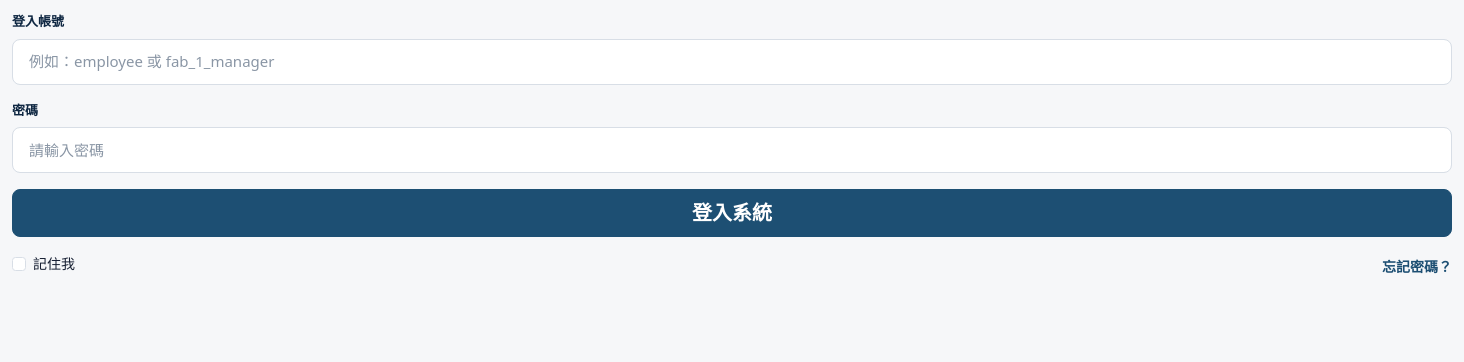
Test case: LoginForm › shows an error alert when login fails
The width and height of the screenshot is (1464, 362).
Type "manager" into the field labelled "登入帳號" at (732, 62), box [12,38,1452,84]
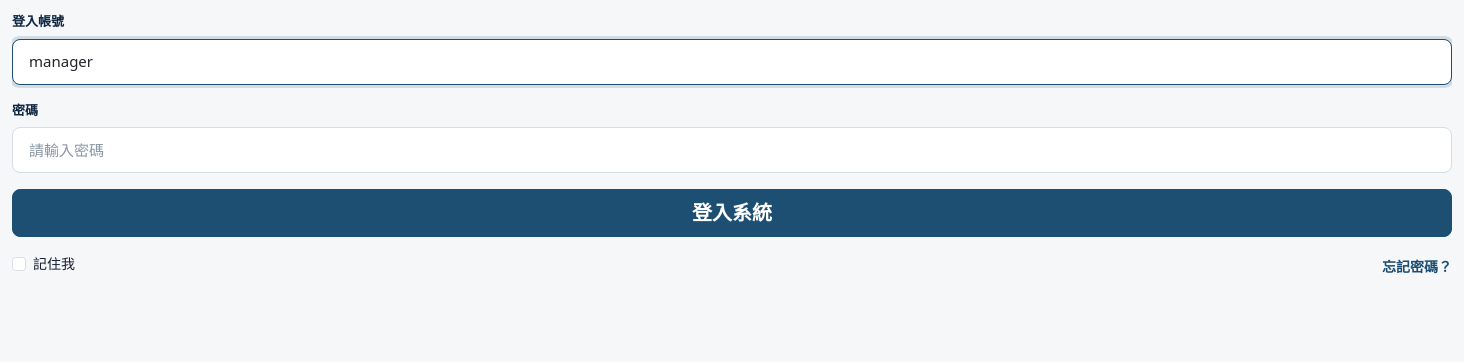
Type "wrong" into the password field labelled "密碼" at (732, 150), box [12,127,1452,173]
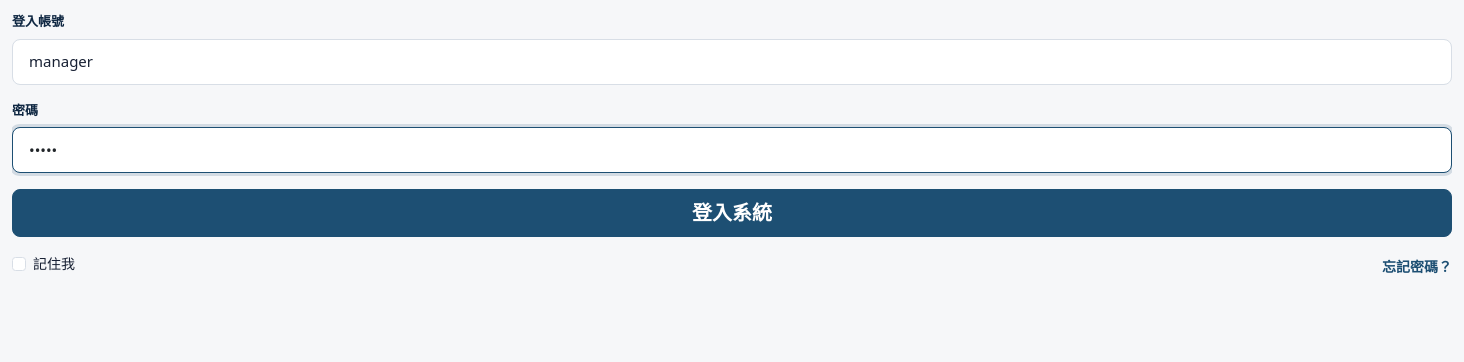
Click the button "登入系統" at (732, 213), box [12,189,1452,237]
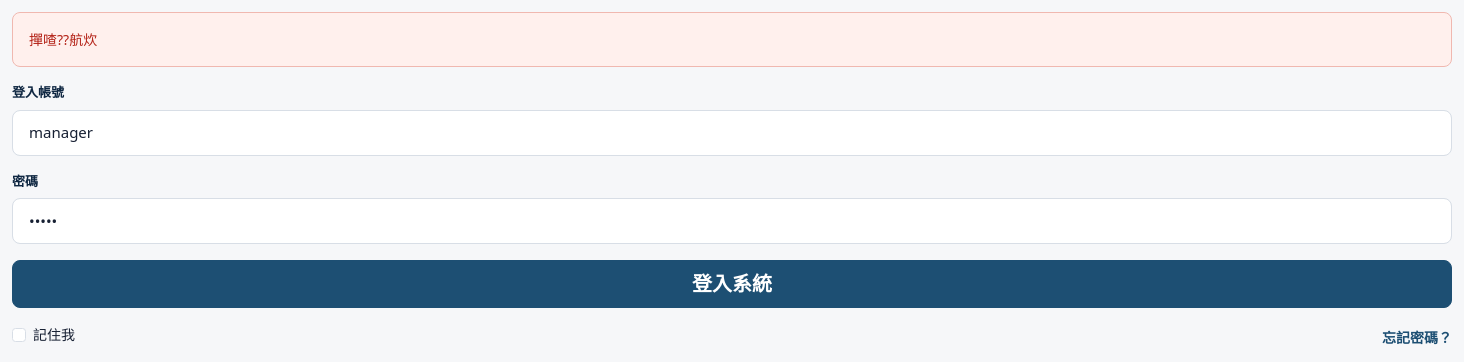
Check: the button "登入系統" is enabled, box [12,260,1452,308]
Check: the text "撣喳??航炊" is shown, box [12,12,1452,67]
